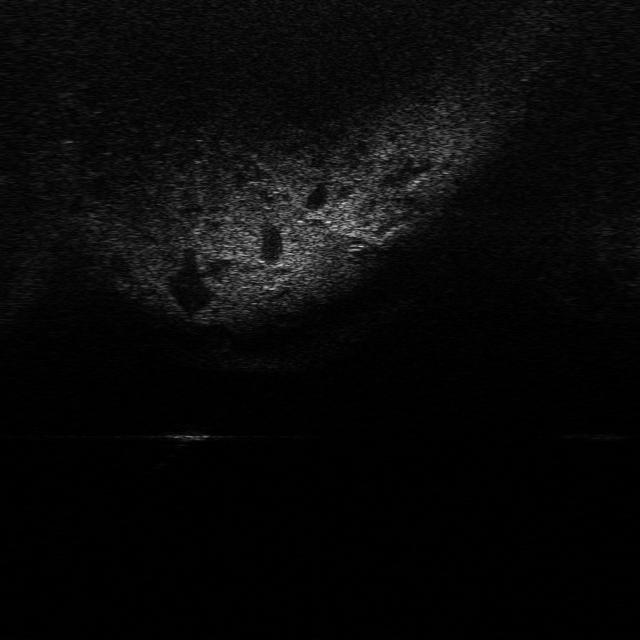ball: (254, 264, 290, 292)
cube: (159, 422, 212, 448)
